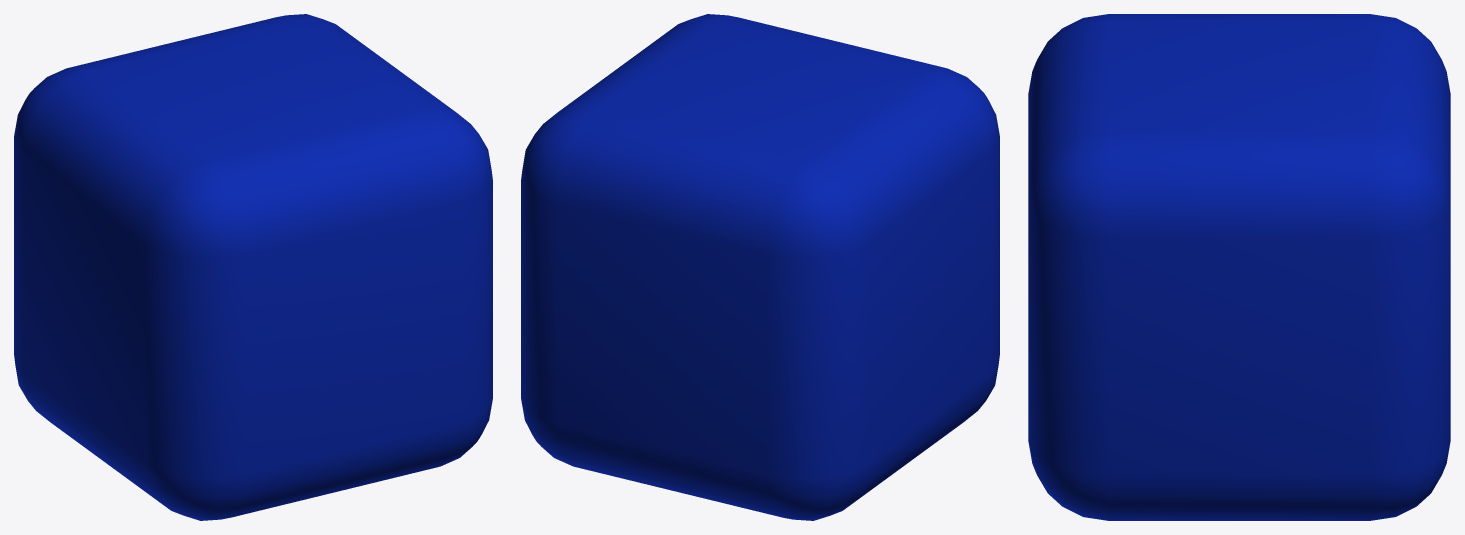
File: rounded_cube.fbx
The picture shows the model from 3 angles, left to right: view 1: azimuth 30°, elevation 25°; view 2: azimuth 150°, elevation 25°; view 3: azimuth 270°, elevation 25°; orthographic projection. The views are drawn at different scales.
Parts seen in each view (by area): view 1: Cube_0; view 2: Cube_0; view 3: Cube_0.
Boxes of the visible parts, <box> form: Cube_0: <box>14,14,492,520</box>; Cube_0: <box>521,14,999,520</box>; Cube_0: <box>1028,14,1450,520</box>.
Bounding box in the file's own units: 2 × 2 × 2.
